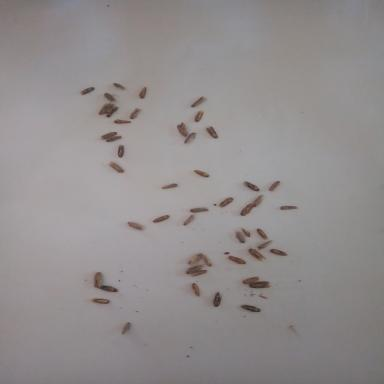pbw: (248, 248, 266, 261), (187, 253, 203, 265), (108, 161, 124, 173), (240, 203, 254, 216), (186, 264, 204, 274), (99, 103, 114, 115), (243, 181, 260, 191), (191, 96, 206, 107), (212, 292, 223, 307), (227, 256, 247, 264), (106, 106, 119, 118), (177, 122, 188, 136), (249, 281, 271, 288), (101, 131, 118, 140), (241, 304, 260, 312), (258, 240, 273, 250), (256, 228, 268, 240), (184, 132, 196, 144), (93, 272, 102, 288), (206, 126, 218, 138), (219, 197, 233, 207), (152, 215, 169, 223), (243, 276, 260, 284), (253, 195, 264, 207), (202, 254, 213, 266), (235, 231, 246, 243), (127, 222, 143, 230), (100, 285, 118, 292), (270, 249, 288, 256), (104, 93, 118, 102), (130, 108, 141, 119), (183, 215, 195, 225), (268, 181, 280, 191), (90, 298, 110, 304), (194, 110, 204, 122), (192, 283, 200, 297), (194, 170, 210, 177), (106, 135, 122, 142), (190, 207, 208, 213), (81, 86, 94, 94), (113, 82, 125, 90), (162, 183, 178, 189), (122, 322, 130, 334), (191, 270, 207, 276), (241, 227, 250, 237), (139, 87, 147, 98), (280, 206, 298, 210), (118, 145, 124, 157), (114, 119, 131, 123)
